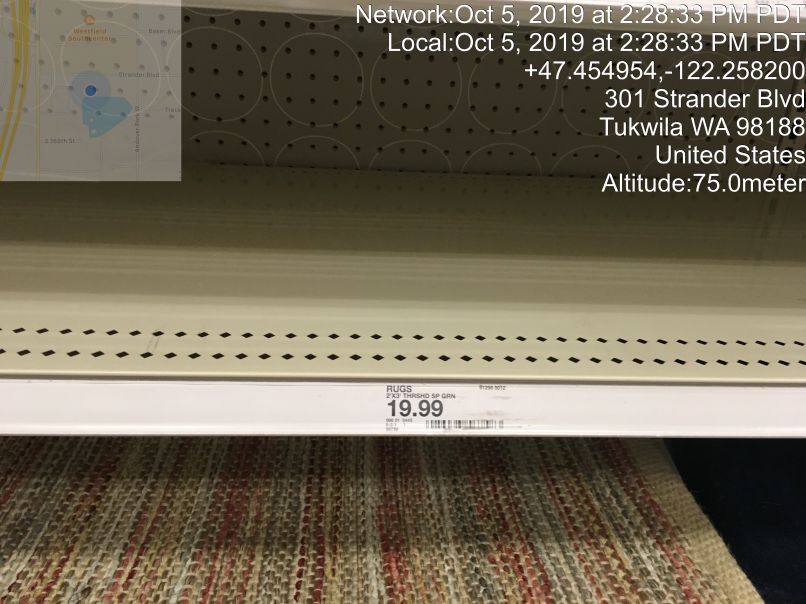Label: (376, 377, 518, 441)
Location: (595, 83, 806, 171)
Time: (349, 1, 806, 57)
Void: (22, 6, 803, 349)
